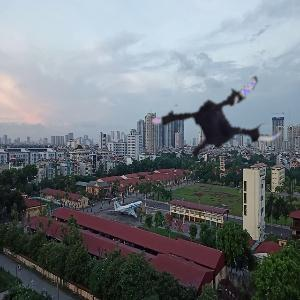drone: (152, 45, 291, 184)
